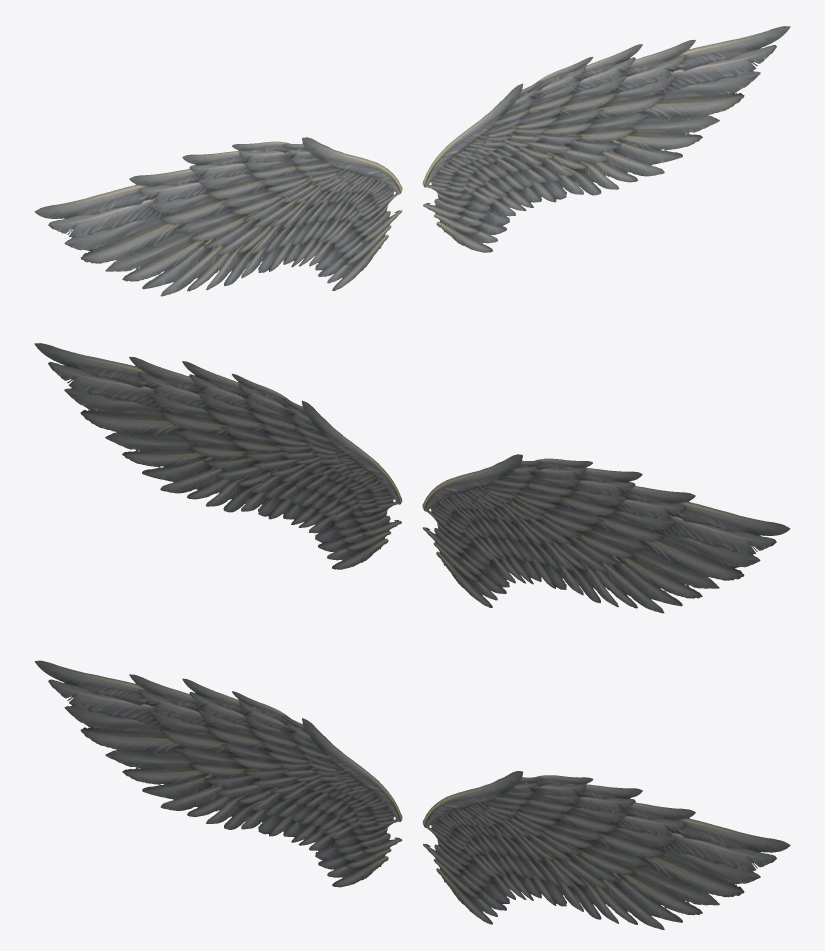
The model's file is Angel Wings 01.obj.
The picture shows the model from 3 angles, top to bottom: view 1: azimuth 30°, elevation 25°; view 2: azimuth 150°, elevation 25°; view 3: azimuth 330°, elevation 25°; orthographic projection.
Visible parts, largest first — view 1: Plane02; view 2: Plane02; view 3: Plane02.
Boxes of the visible parts, x1,y1,x2,y2 form: Plane02: (34, 26, 790, 296); Plane02: (34, 343, 790, 613); Plane02: (34, 660, 790, 929).
Size of the model in its own units: 86.29 by 18.53 by 0.
Materials: 1 (1 with a texture image).
